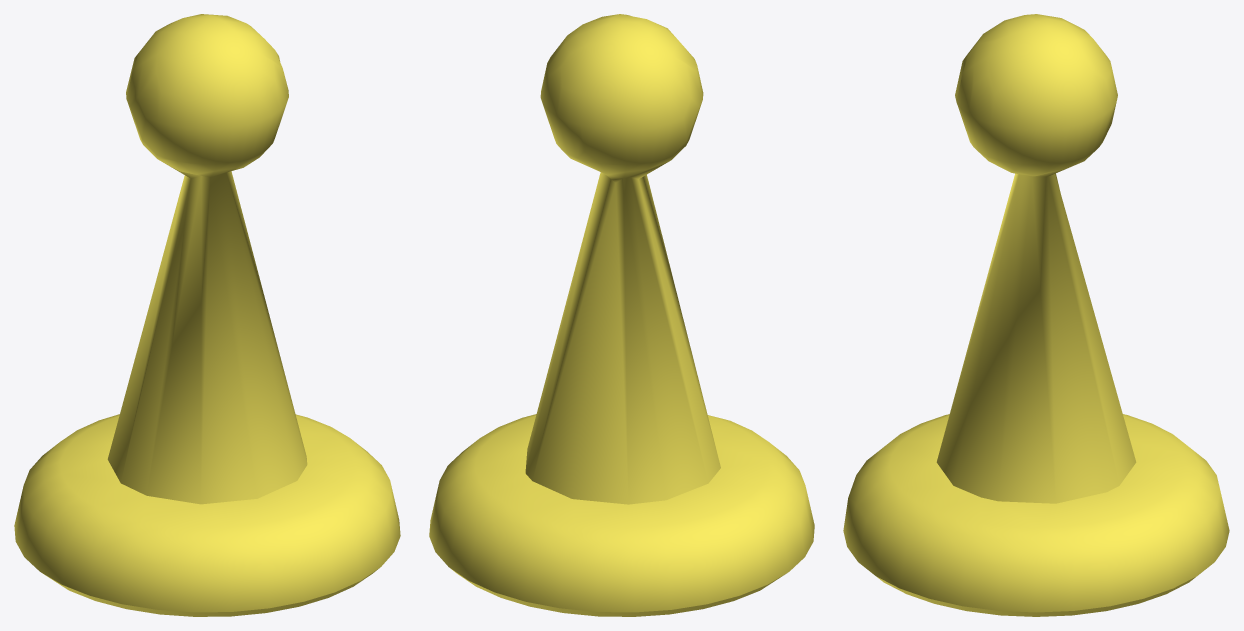
The model's file is FichaPlayer_AmarilloClaro.glb.
3 views of the same model, side by side, from view 1: azimuth 30°, elevation 25°; view 2: azimuth 150°, elevation 25°; view 3: azimuth 270°, elevation 25° (orthographic).
Visible parts, largest first — view 1: prim0; view 2: prim0; view 3: prim0.
Boxes of the visible parts, bbox=[...] form: prim0: bbox=[14, 14, 400, 616]; prim0: bbox=[429, 14, 814, 616]; prim0: bbox=[843, 14, 1229, 616].
Bounding box in the file's own units: 1.72 × 2.55 × 1.72.
